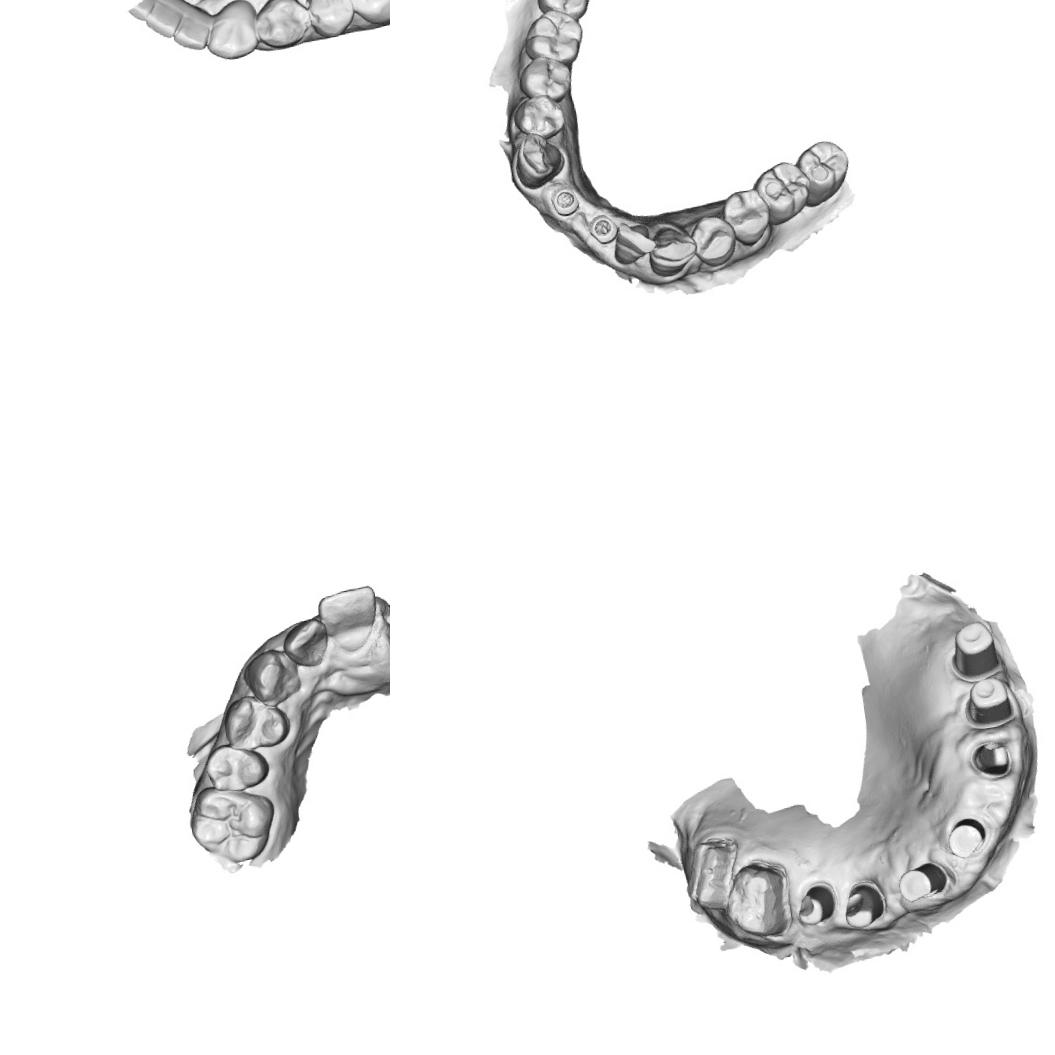abutment: (945, 616, 1006, 683), (956, 672, 1024, 732), (838, 874, 890, 936), (894, 856, 951, 908), (790, 877, 842, 930), (943, 815, 989, 864), (972, 736, 1016, 780)
canine: (238, 644, 304, 710), (200, 2, 263, 66), (644, 221, 701, 279)
crown: (716, 856, 792, 945), (674, 832, 745, 918)
implant: (586, 211, 621, 246), (550, 185, 582, 218)
incisor: (314, 583, 382, 656), (509, 128, 568, 192), (279, 614, 332, 671), (609, 217, 659, 267), (168, 7, 216, 56), (139, 0, 187, 41)
molar: (184, 778, 282, 869), (752, 156, 816, 228), (792, 137, 854, 209), (520, 5, 588, 70), (532, 0, 594, 26)
premolar: (219, 690, 293, 754), (201, 738, 272, 795), (718, 183, 775, 250), (249, 0, 315, 54), (514, 52, 574, 108), (687, 210, 741, 270), (510, 91, 568, 144), (301, 0, 357, 41)
